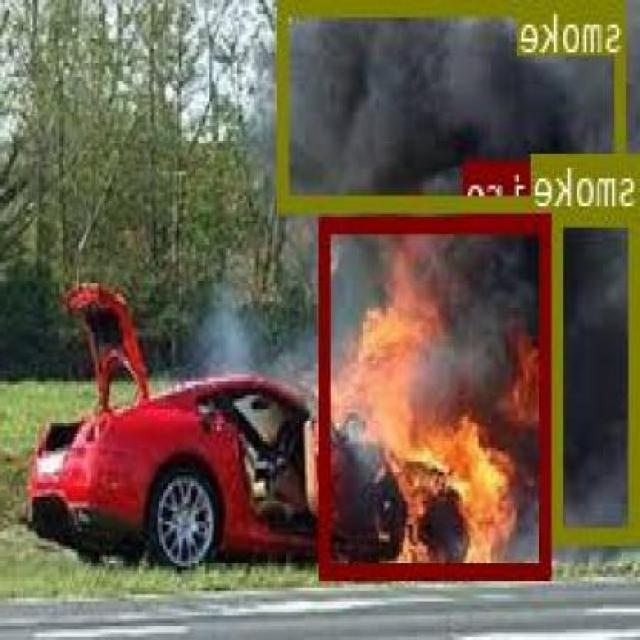Fire: (325, 252, 560, 572)
Smoke: (228, 0, 640, 293), (557, 250, 640, 557)
